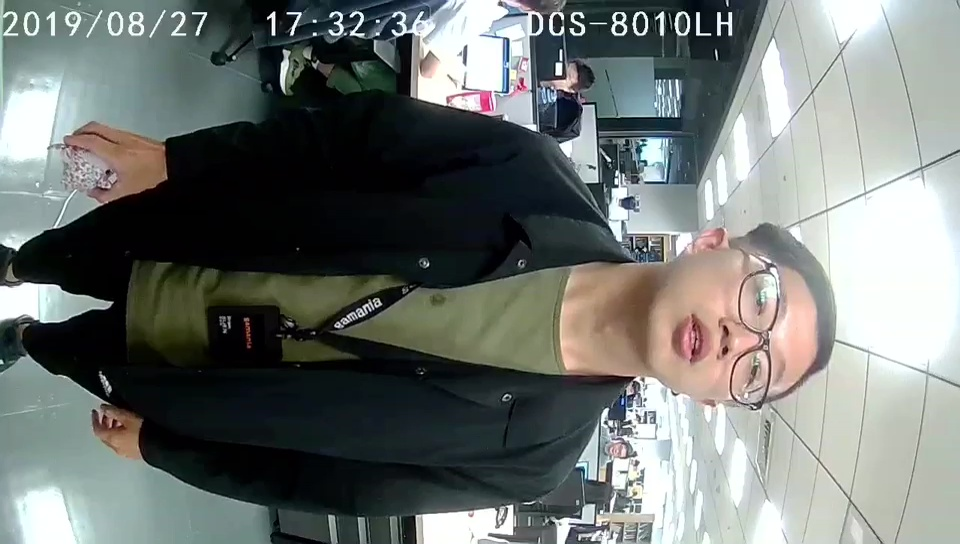pig: (62, 143, 120, 195)
